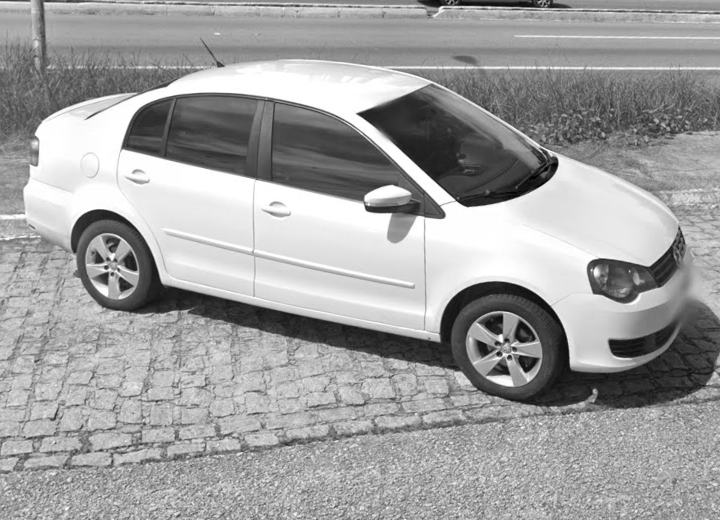car: (19, 34, 697, 406)
